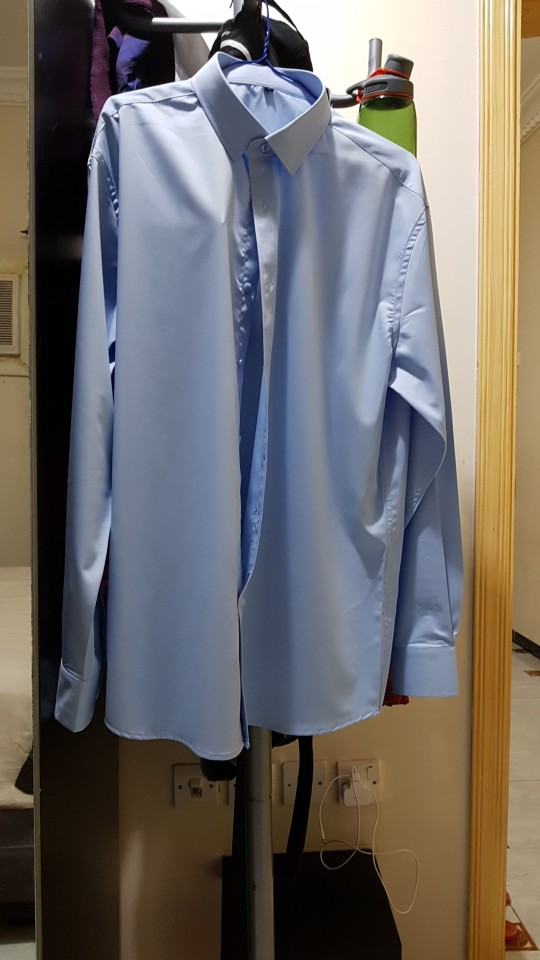shirts: (39, 69, 465, 762)
